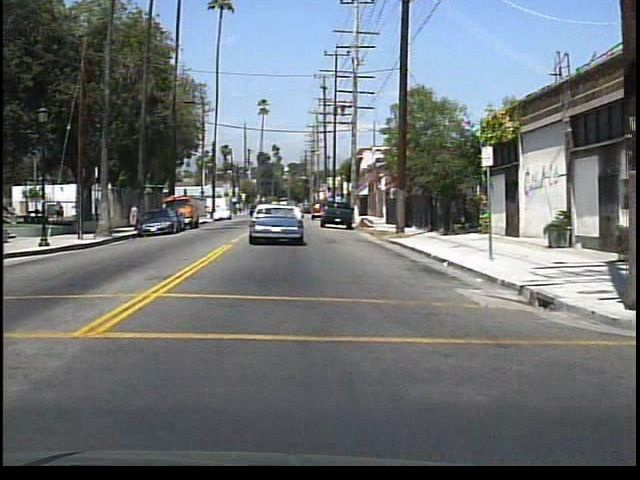person: (52, 199, 67, 226), (91, 196, 105, 222), (129, 200, 141, 229)
